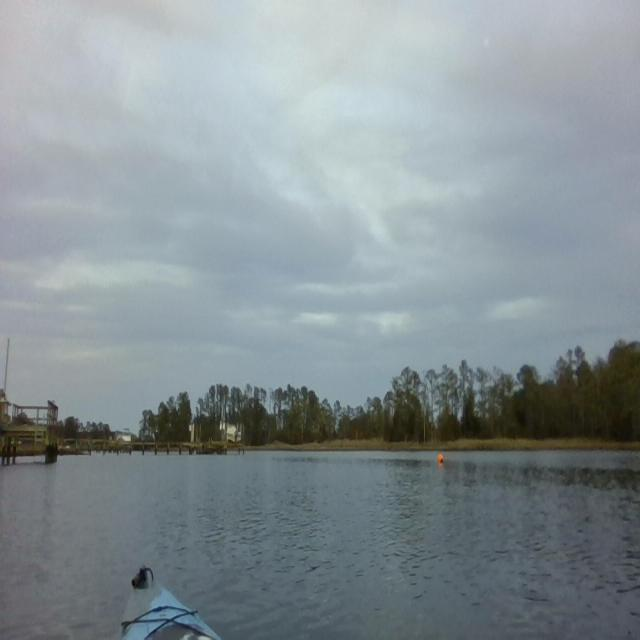Buoy: (436, 451, 445, 465)
